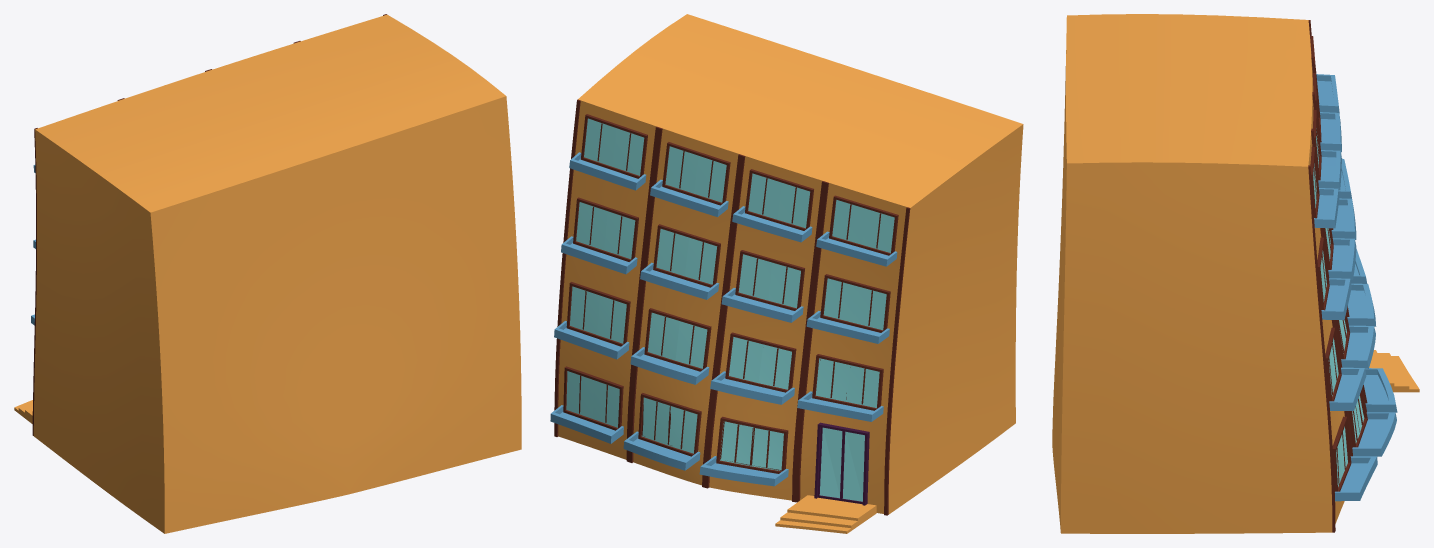
The model's file is SM_Maison_03.glb.
3 renders of one model, left to right at view 1: azimuth 30°, elevation 25°; view 2: azimuth 150°, elevation 25°; view 3: azimuth 270°, elevation 25°, orthographic. The views are drawn at different scales.
Parts seen in each view (by area): view 1: SM_maison_03; view 2: SM_maison_03; view 3: SM_maison_03.
Part boxes in pixels (left/top/right/bottom): SM_maison_03: left=14, top=14, right=521, bottom=533; SM_maison_03: left=550, top=14, right=1023, bottom=533; SM_maison_03: left=1052, top=14, right=1419, bottom=533.
Bounding box in the file's own units: 32.36 × 29.74 × 27.12.
